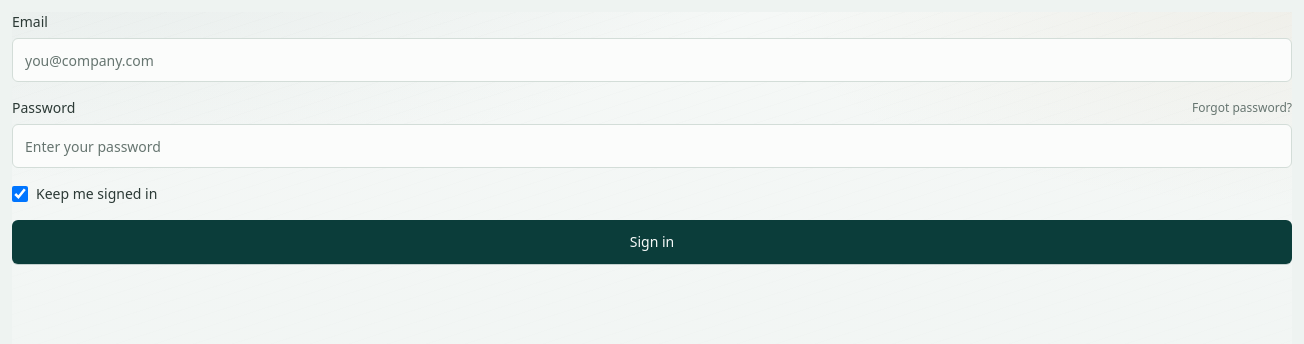
Test case: LoginForm › shows invalid credentials on 401
Type "pm@bonyan.com" into the field labelled "Email" at (652, 60), box [12,38,1292,82]
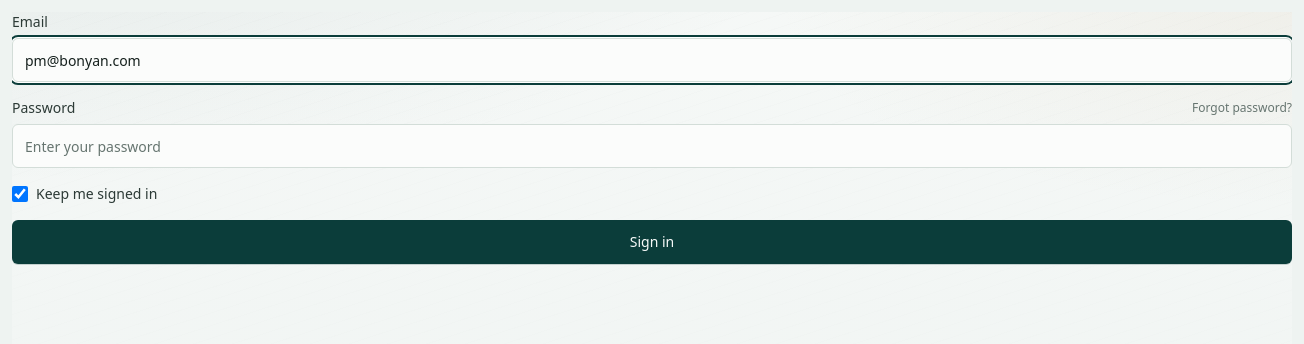
Type "password123" into the password field labelled "Password" at (652, 146), box [12,124,1292,168]
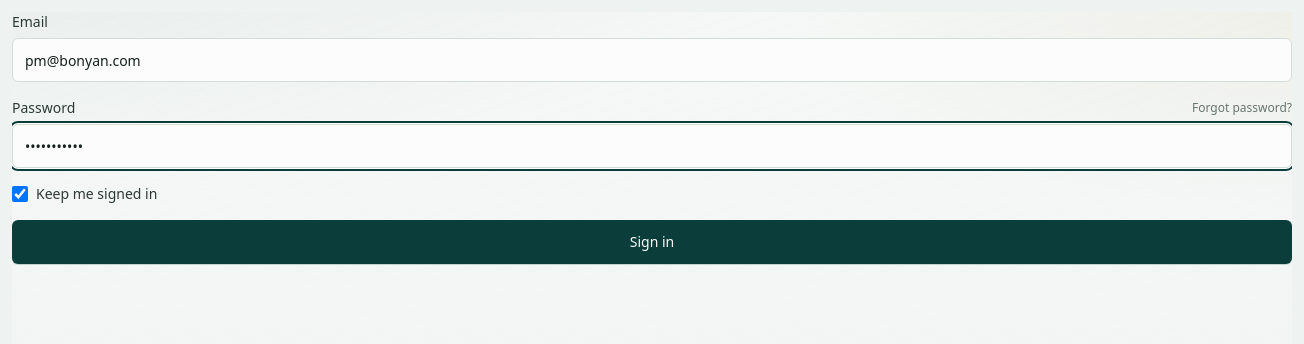
Click the button "Sign in" at (652, 242), box [12,220,1292,264]
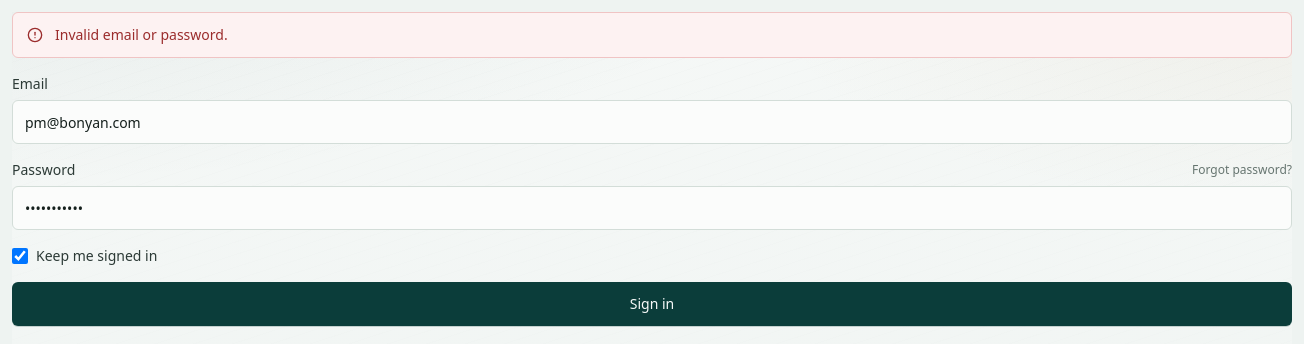
Now the text "Invalid email or password." is shown, box [55,25,228,45]
